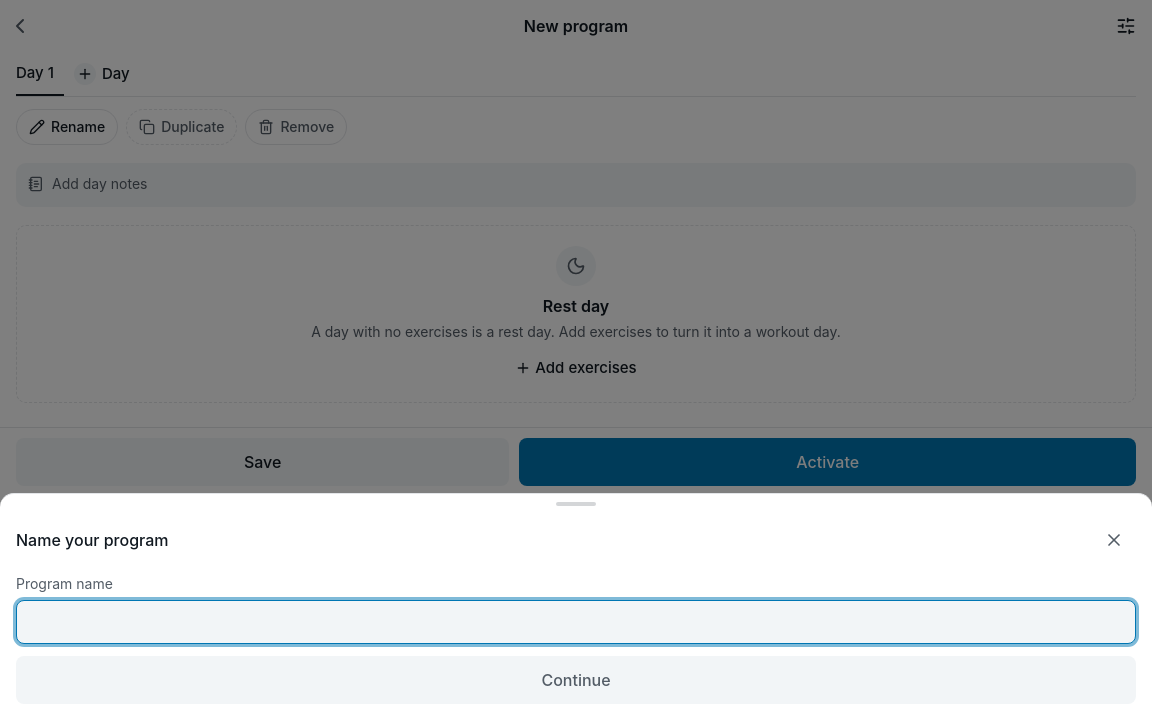
Test case: ProgramEditorPage - shell › /programs/new opens the name prompt and Continue sets the title
In the field labelled "Program name": coordinates (576, 622) left=16, top=600, right=1136, bottom=644, type "Push Pull Legs"
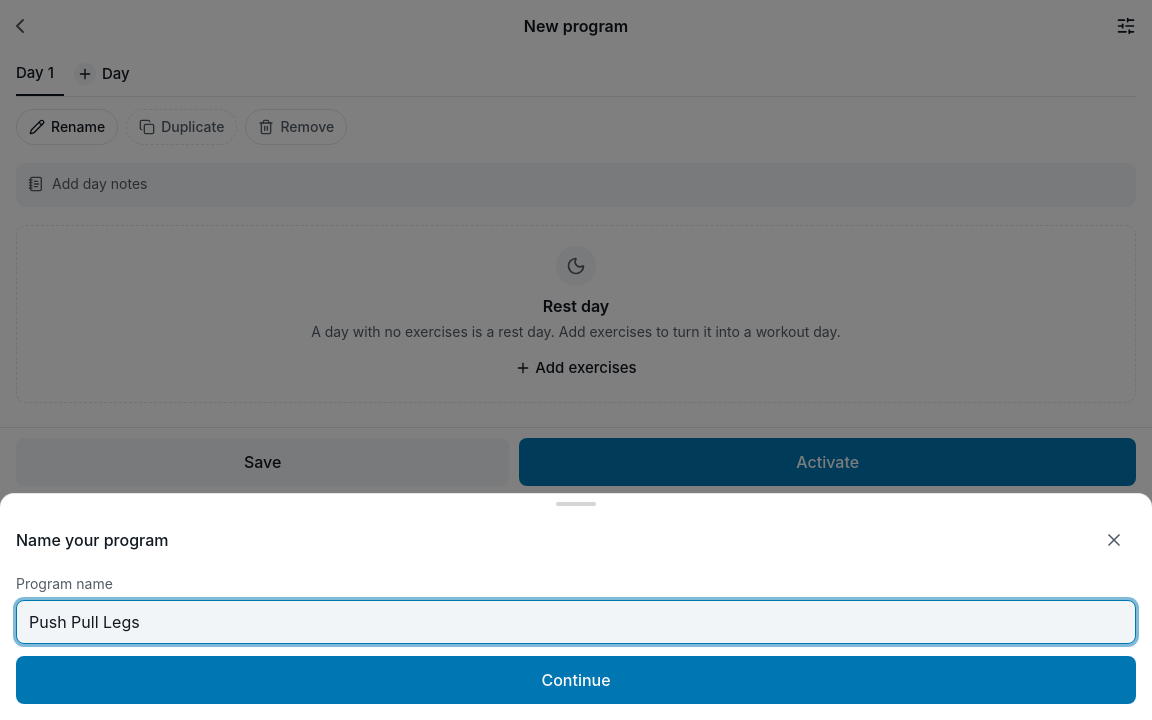
Click the button "Continue": coordinates (576, 680) left=16, top=656, right=1136, bottom=704
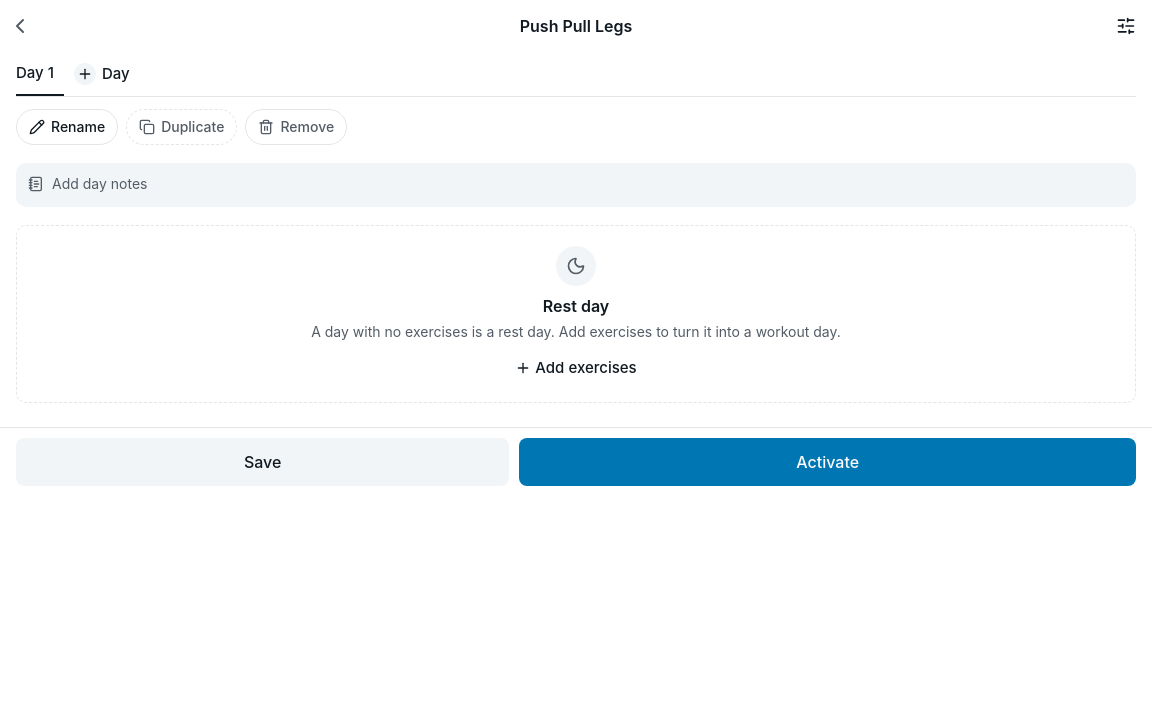
Expected: the heading "Push Pull Legs" is shown, left=520, top=16, right=632, bottom=36
Expected: the text labelled "Program name" is gone
